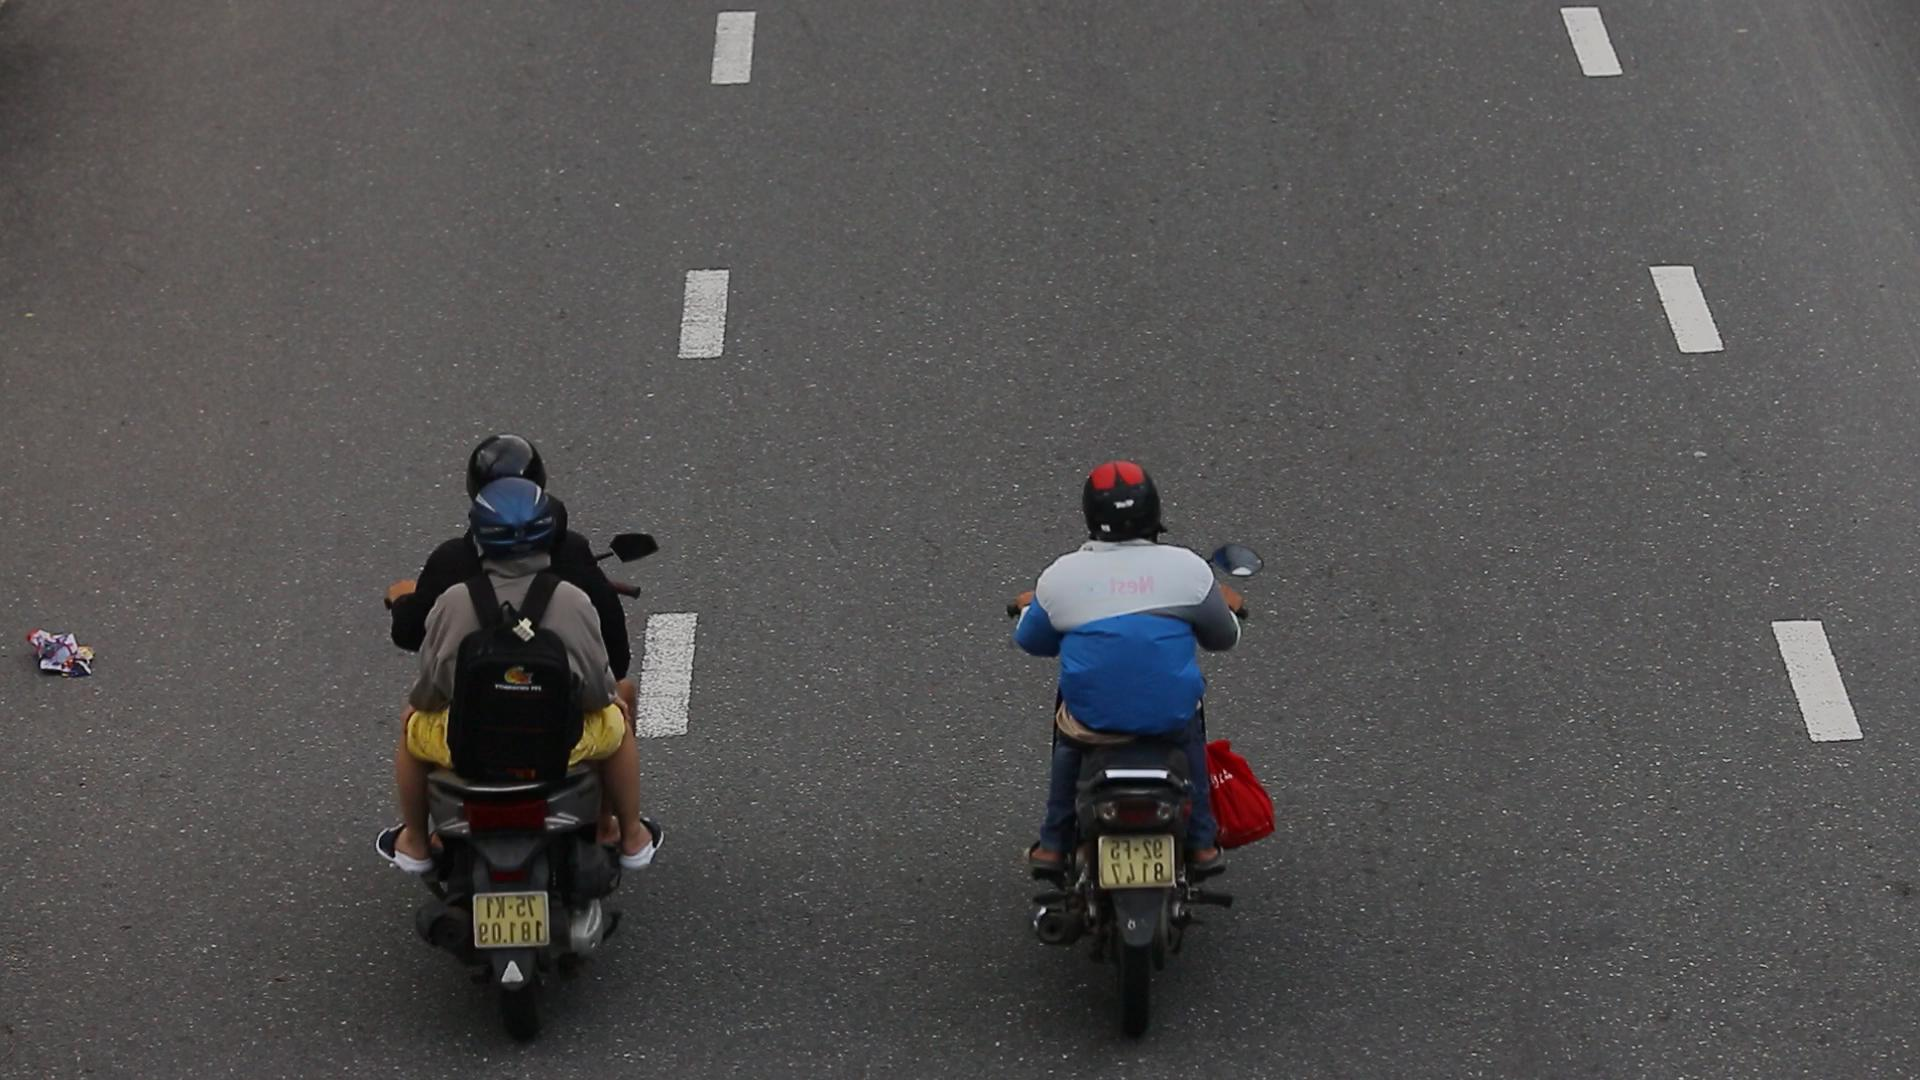motobike: (992, 406, 1320, 1056), (365, 394, 683, 1055)
